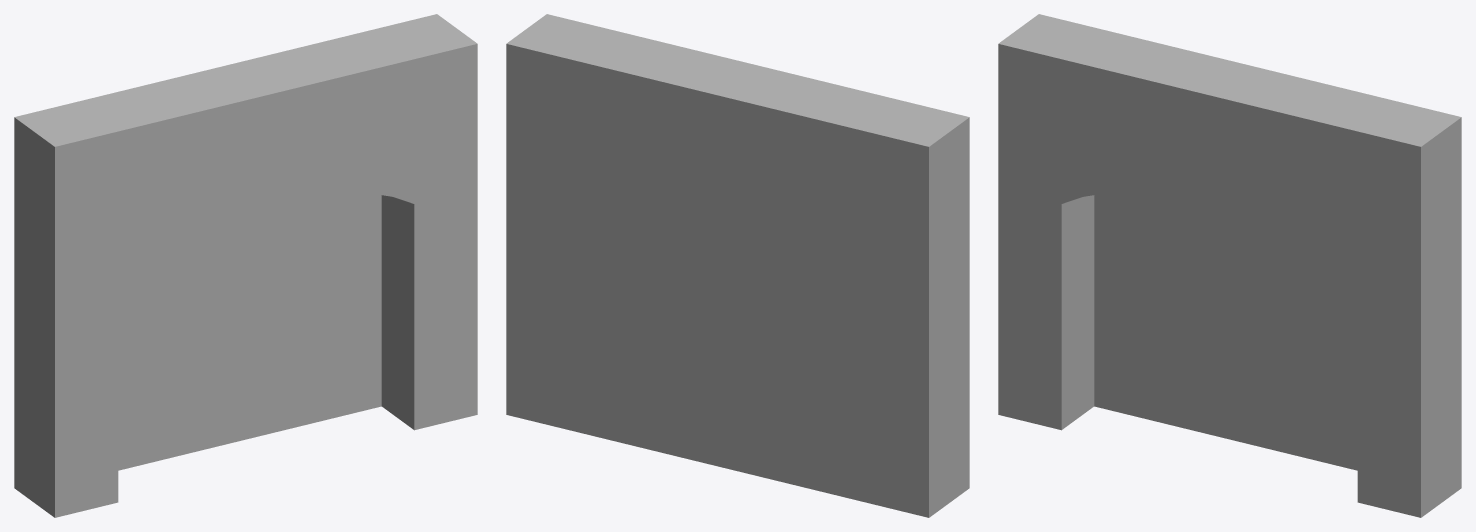
File: wall.fbx
3 renders of one model, left to right at view 1: azimuth 30°, elevation 25°; view 2: azimuth 150°, elevation 25°; view 3: azimuth 330°, elevation 25°, orthographic.
Visible parts, largest first — view 1: wall; view 2: wall; view 3: wall.
Part boxes in pixels (bbox=[...]): wall: bbox=[14, 14, 477, 517]; wall: bbox=[506, 14, 969, 517]; wall: bbox=[998, 14, 1461, 517].
Size of the model in its own units: 300 by 252 by 50.
